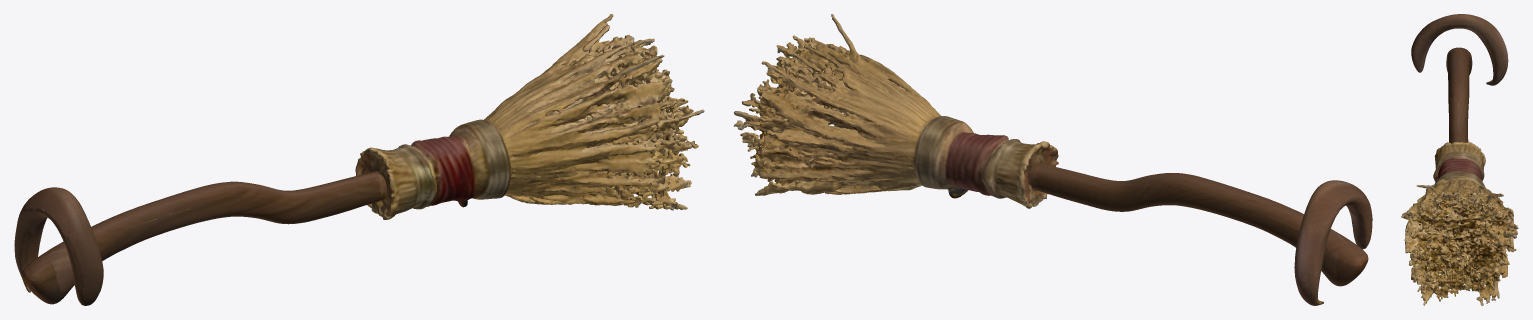
3 renders of one model, left to right at view 1: azimuth 30°, elevation 25°; view 2: azimuth 150°, elevation 25°; view 3: azimuth 270°, elevation 25°, orthographic. The views are drawn at different scales.
Visible parts, largest first — view 1: geometry_0; view 2: geometry_0; view 3: geometry_0.
Boxes of the visible parts, x1=… form: geometry_0: x1=14, y1=14, x2=704, y2=305; geometry_0: x1=733, y1=14, x2=1372, y2=305; geometry_0: x1=1401, y1=14, x2=1518, y2=305.
Bounding box in the file's own units: 0.28 × 0.0682 × 0.0652.
1 material, 1 textured.
